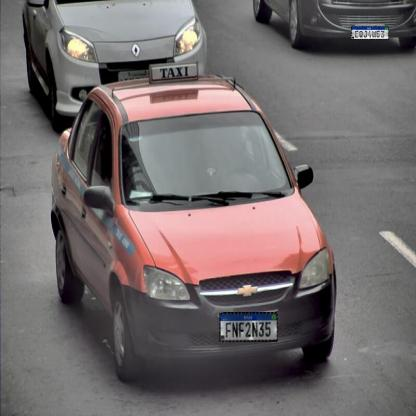PlacaM: (220, 312, 278, 342), (351, 26, 389, 40)
